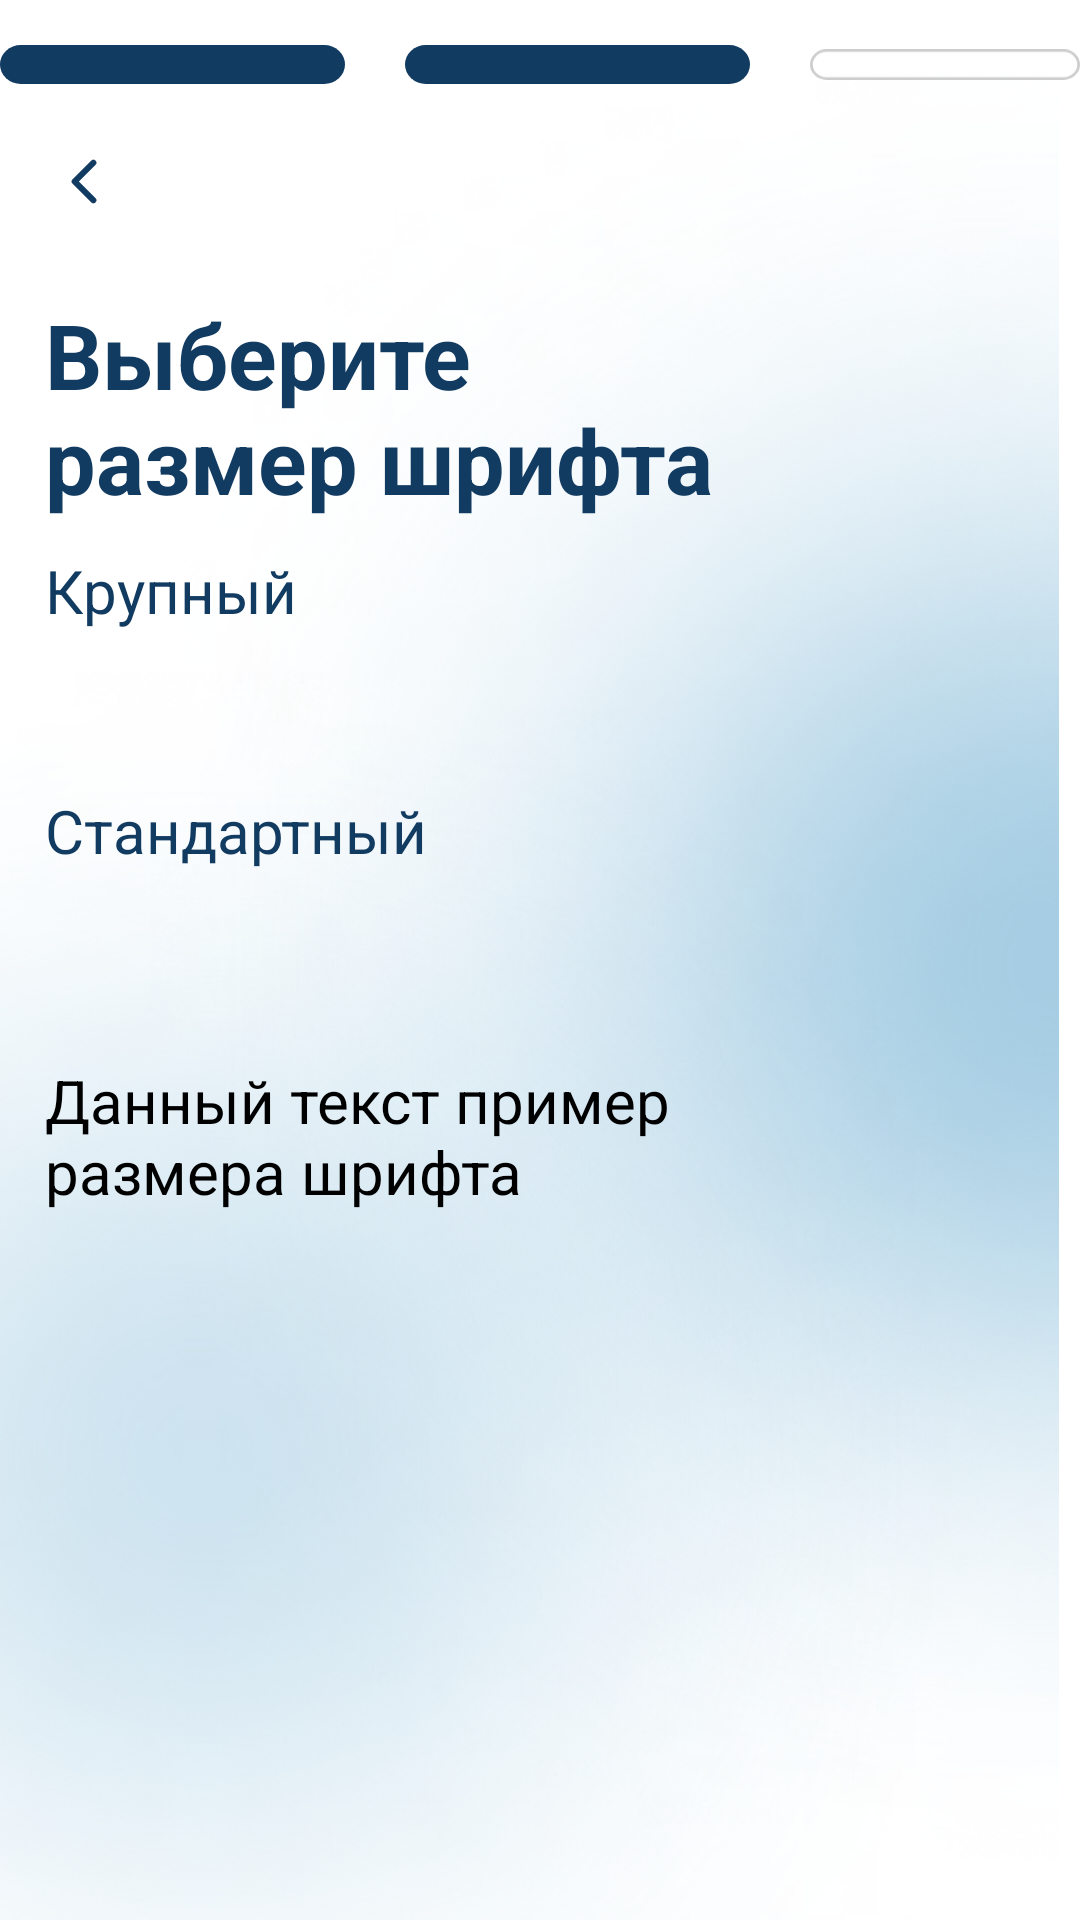

Screen size 1080w x 1920h. Icon name, then its center in pixels as [x,y]:
left arrow: [84,181]
